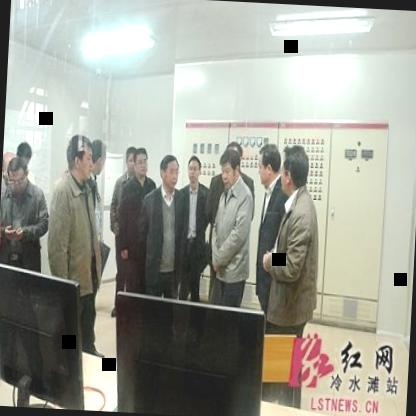head: (280, 143, 310, 197), (64, 129, 90, 180), (256, 141, 282, 188), (219, 142, 243, 187), (156, 150, 180, 192), (4, 155, 29, 195), (86, 134, 108, 178), (184, 152, 202, 187), (131, 146, 150, 178), (13, 138, 32, 169), (122, 141, 136, 176)
